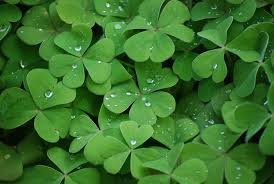clover: (2, 66, 77, 142), (190, 16, 262, 85), (102, 62, 179, 125), (48, 22, 115, 88), (123, 1, 195, 62), (98, 119, 165, 181)
